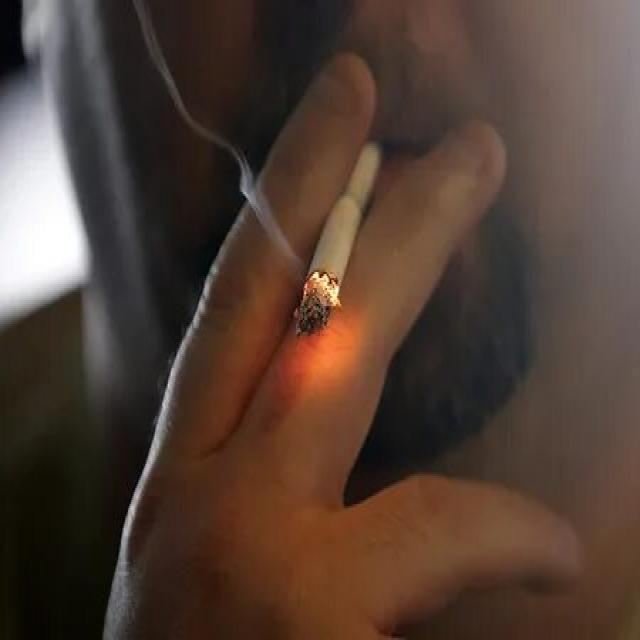cigarette: (290, 128, 386, 344)
